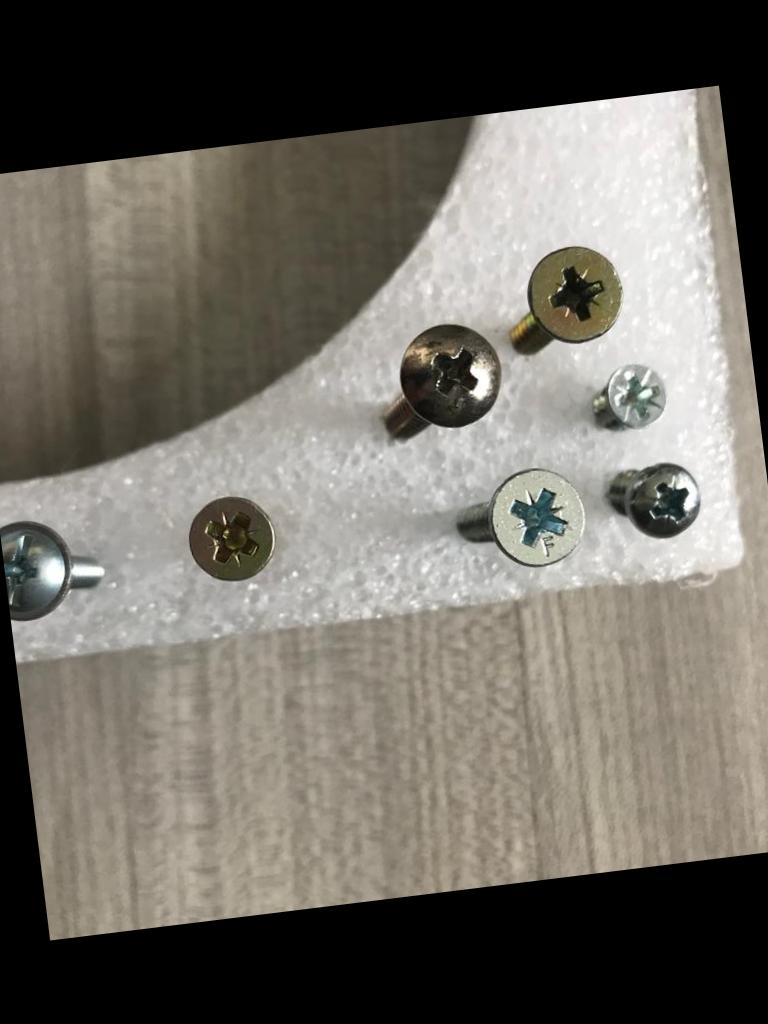PH: (395, 318, 509, 432), (485, 462, 591, 571), (523, 240, 629, 348), (184, 489, 280, 584), (0, 514, 76, 622), (628, 458, 706, 541), (602, 360, 670, 432)
